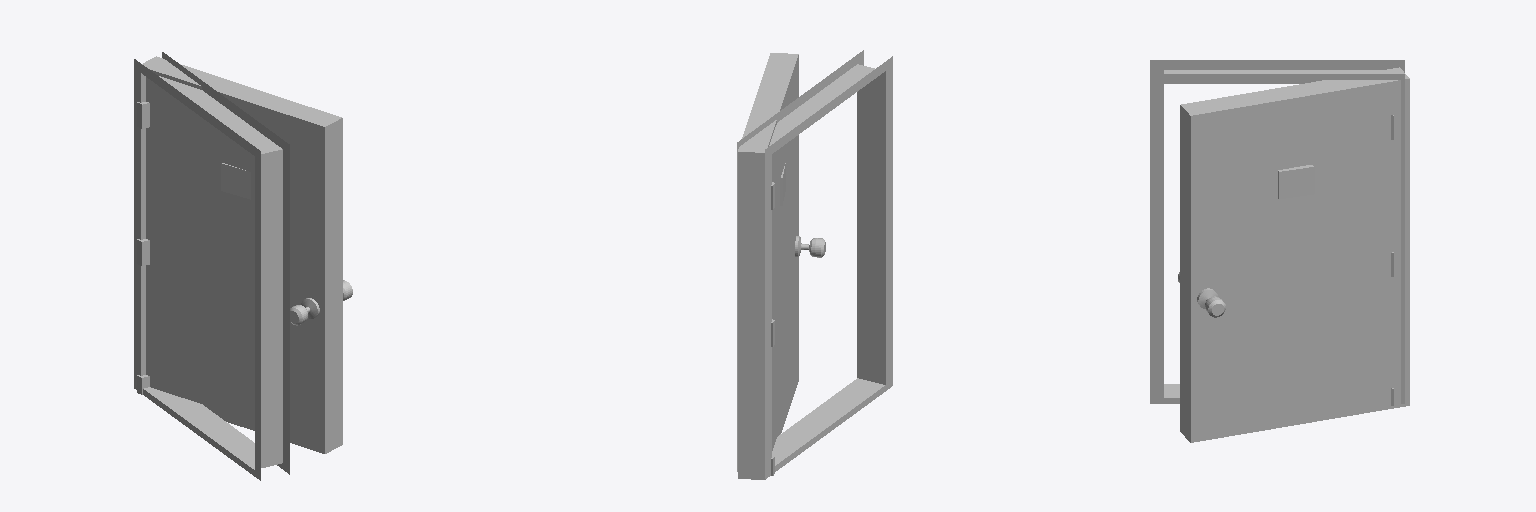
Rendered from Door_0_Open9.obj.
The picture shows the model from 3 angles: view 1: azimuth 30°, elevation 25°; view 2: azimuth 150°, elevation 25°; view 3: azimuth 270°, elevation 25°; orthographic projection.
Visible parts, largest first — view 1: Door.001, Frame_Door.001; view 2: Frame_Door.001, Door.001; view 3: Door.001, Frame_Door.001.
Boxes of the visible parts, x1=… form: Door.001: x1=142, y1=56, x2=352, y2=453; Frame_Door.001: x1=134, y1=52, x2=289, y2=480; Frame_Door.001: x1=737, y1=50, x2=892, y2=478; Door.001: x1=738, y1=53, x2=825, y2=479; Door.001: x1=1178, y1=67, x2=1409, y2=442; Frame_Door.001: x1=1150, y1=60, x2=1404, y2=405.
Size of the model in its own units: 0.4735 by 1.21 by 0.8598.